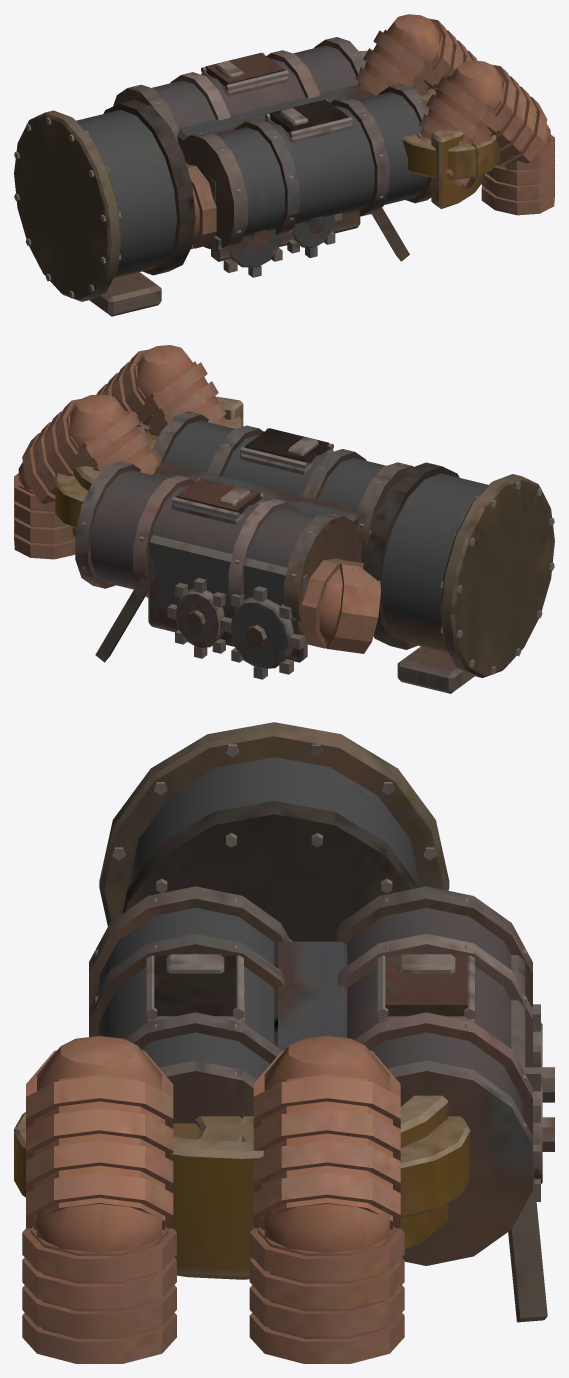
File: offshore-pump-east.glb
3 views of the same model, one above another, from view 1: azimuth 30°, elevation 25°; view 2: azimuth 150°, elevation 25°; view 3: azimuth 270°, elevation 25° (orthographic). The views are drawn at different scales.
Parts seen in each view (by area): view 1: body; view 2: body; view 3: body, anim_bob_a, anim_bob_b.
Boxes of the visible parts, bbox=[...] form: body: bbox=[14, 14, 554, 316]; body: bbox=[14, 345, 554, 693]; body: bbox=[14, 722, 554, 1363]; anim_bob_a: bbox=[397, 954, 455, 973]; anim_bob_b: bbox=[166, 954, 224, 973].
Bounding box in the file's own units: 2.26 × 0.97 × 1.33.
Materials: 1 (1 with a texture image).
